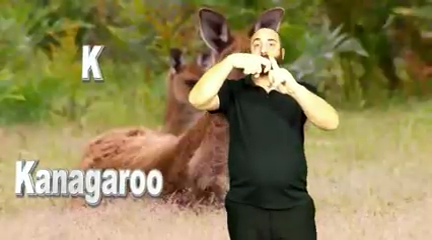K: (234, 44, 294, 100)
